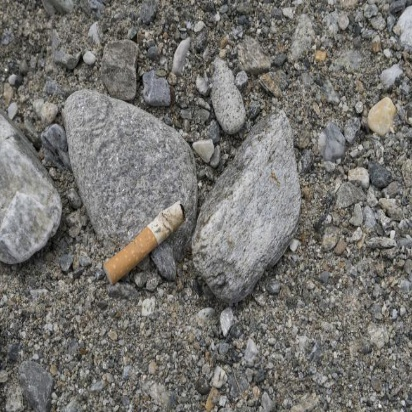cigarette: (96, 195, 191, 290)
